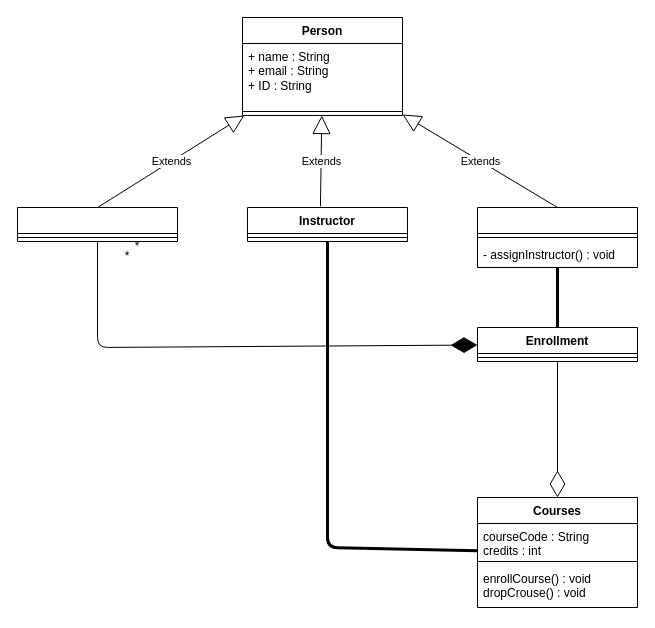
This 655x628 diagram has some shape labels left out. The box of each missing label's shape, as (x1, y1, x2, y2) in pixels:
Administrator: (476, 206, 638, 268)
Student: (16, 206, 178, 242)
